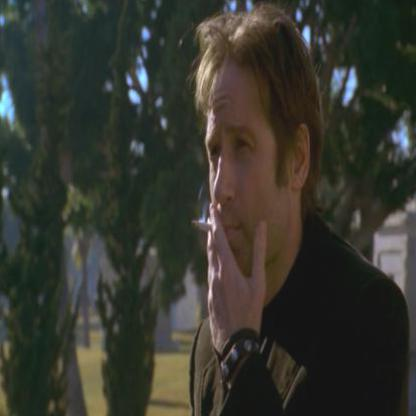cigarette: (190, 219, 214, 235)
person: (192, 24, 408, 415)
